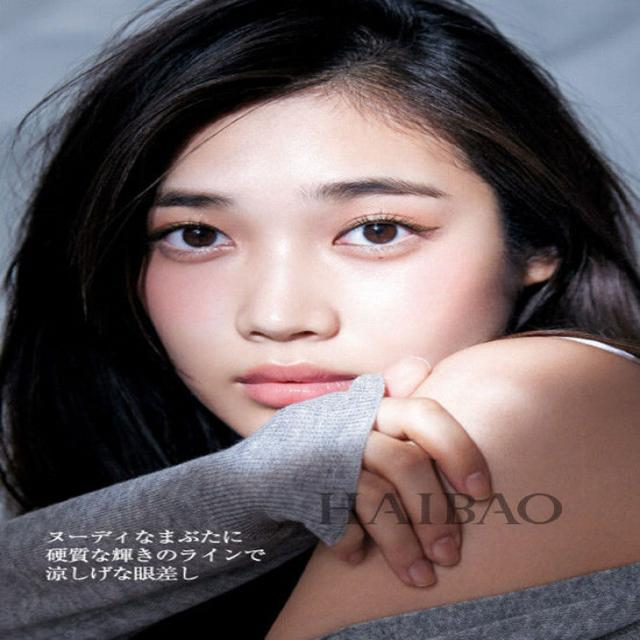nomask: (147, 71, 491, 446)
